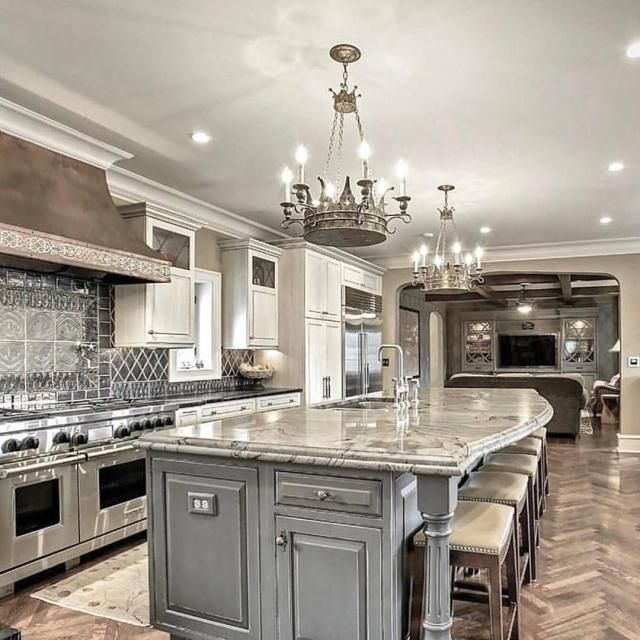Appliance_Oven: (0, 397, 178, 589)
Appliance_Sink: (309, 345, 419, 411)
Cabinet_Glass: (139, 216, 195, 270), (252, 257, 276, 288)
Cabinet_Raised_Panel: (277, 471, 383, 640), (306, 251, 383, 406), (175, 392, 301, 426), (145, 268, 192, 345), (246, 290, 277, 347)
Countertop_Marble: (138, 384, 555, 477)
